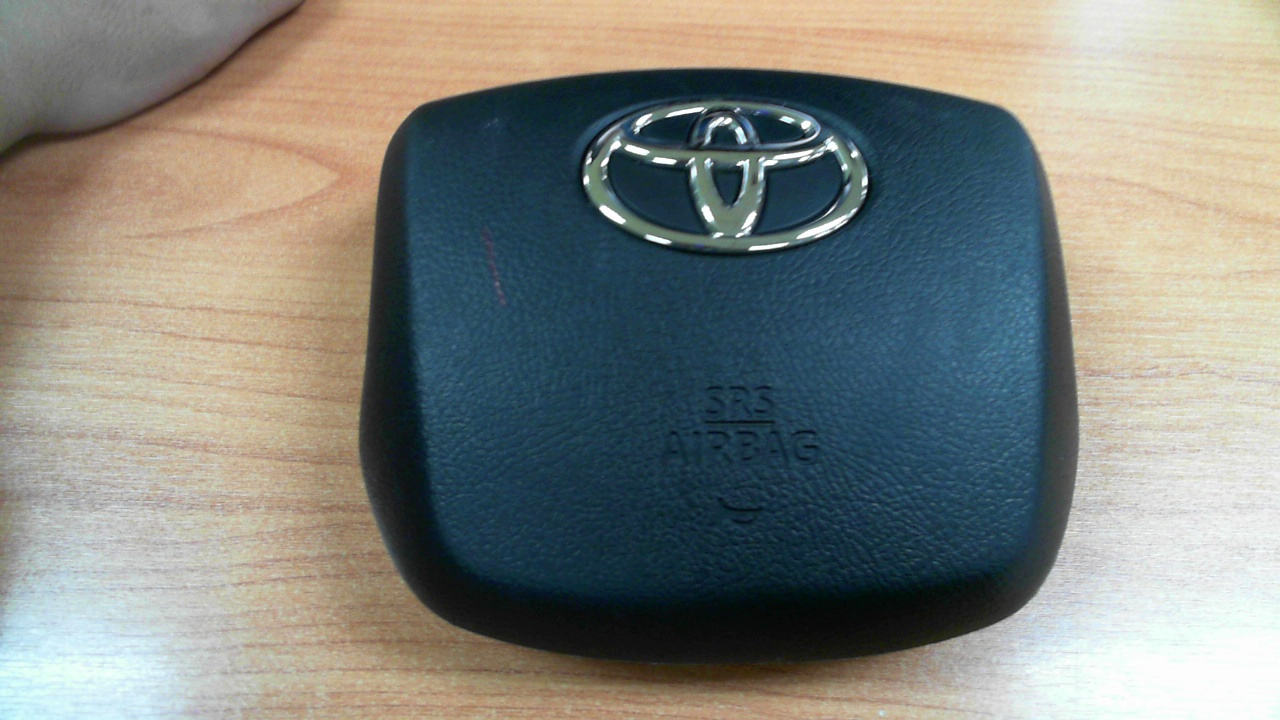Airbag: (356, 68, 1081, 668)
Toyota: (582, 101, 868, 252)
